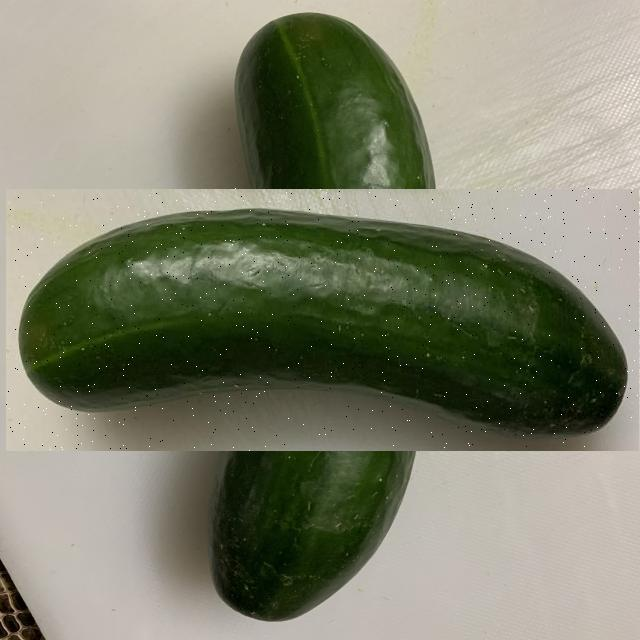Cucumber: (15, 208, 630, 441)
